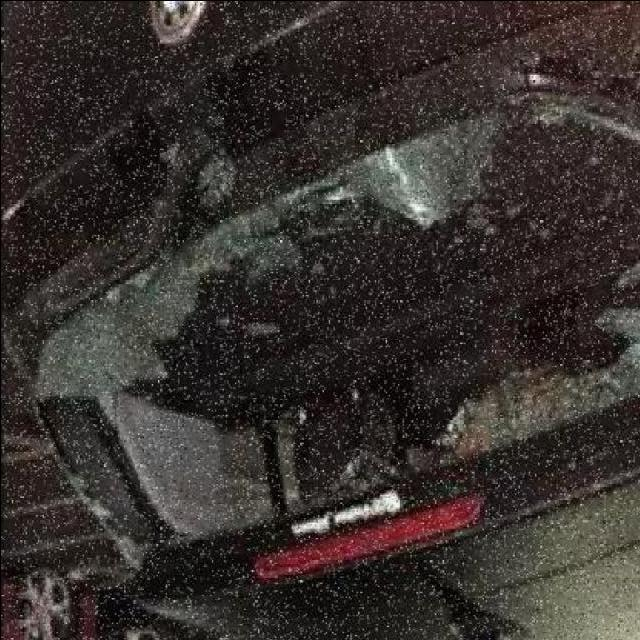Rear-windscreen-Damage: (3, 51, 640, 579)
